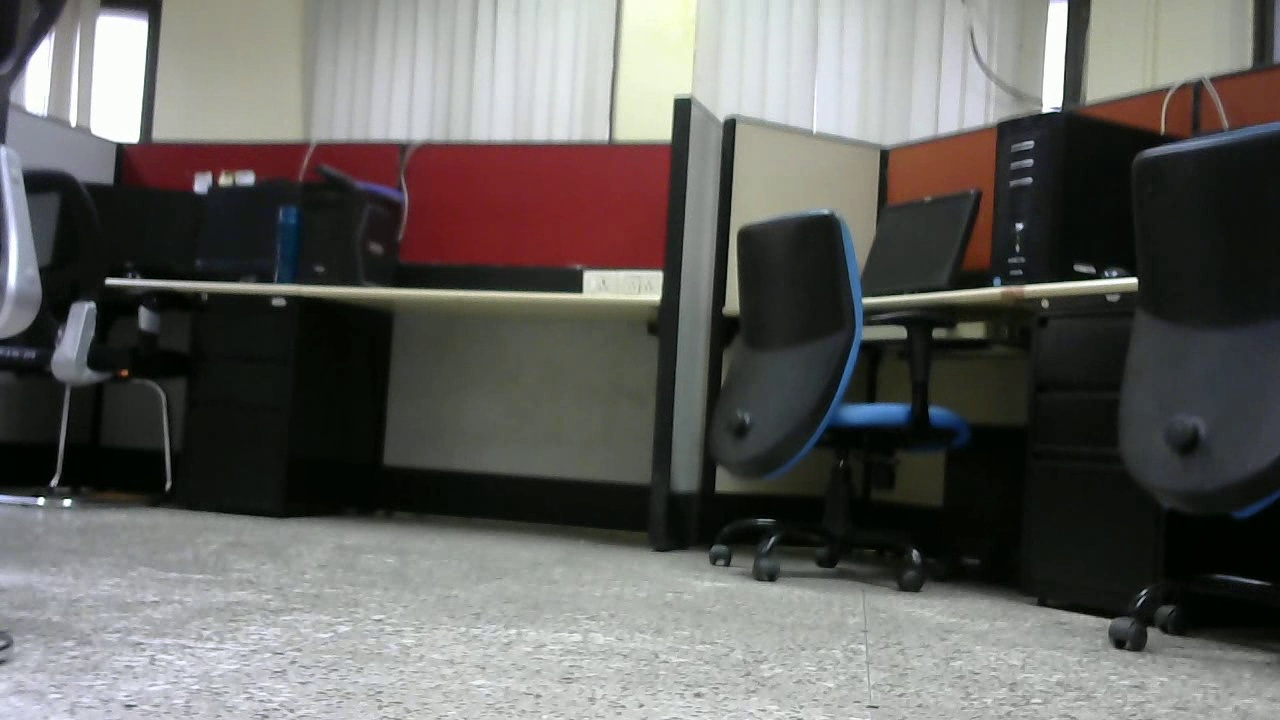chair: (692, 206, 972, 603)
